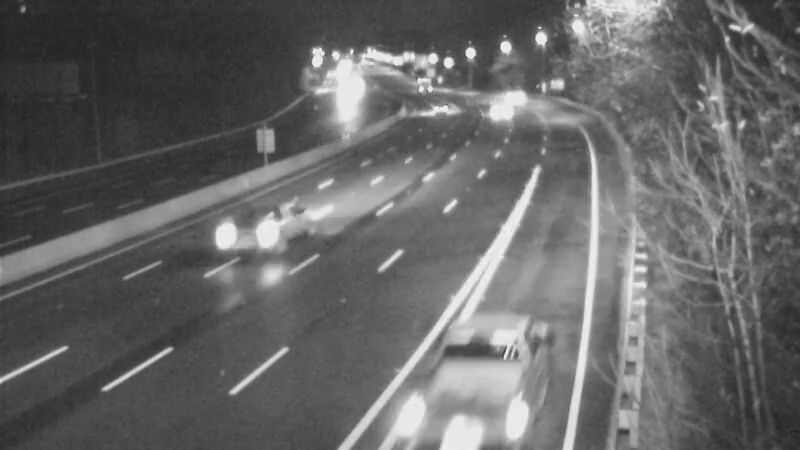vehicle: (426, 325, 536, 435), (193, 190, 273, 270), (403, 63, 453, 113), (496, 72, 546, 122), (469, 86, 519, 136), (323, 66, 373, 116)
